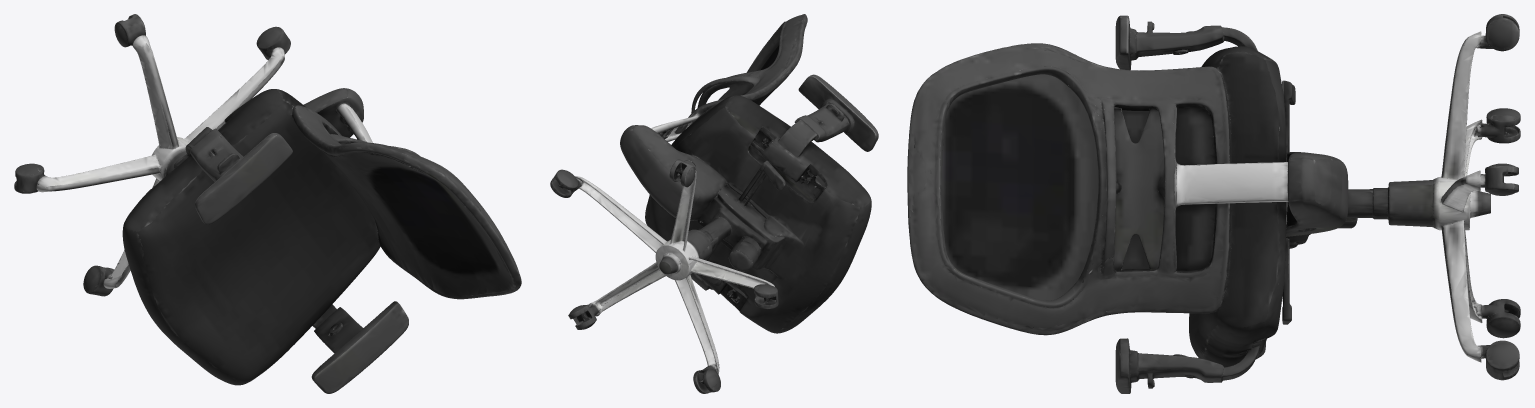
3 renders of one model, left to right at view 1: azimuth 30°, elevation 25°; view 2: azimuth 150°, elevation 25°; view 3: azimuth 270°, elevation 25°, orthographic. The views are drawn at different scales.
Parts seen in each view (by area): view 1: Manav.001; view 2: Manav.001; view 3: Manav.001.
Part boxes in pixels (x1,y1,x2,y2): Manav.001: (14,14,521,393); Manav.001: (550,14,878,393); Manav.001: (907,14,1520,393).
Size of the model in its own units: 0.0212 by 0.0209 by 0.0323.
1 material, 1 textured.
